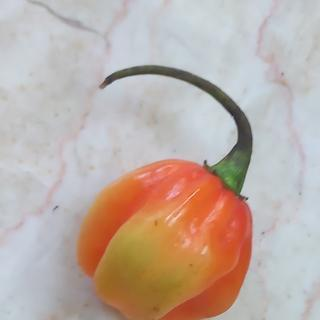Grade-B: (74, 157, 257, 320)
